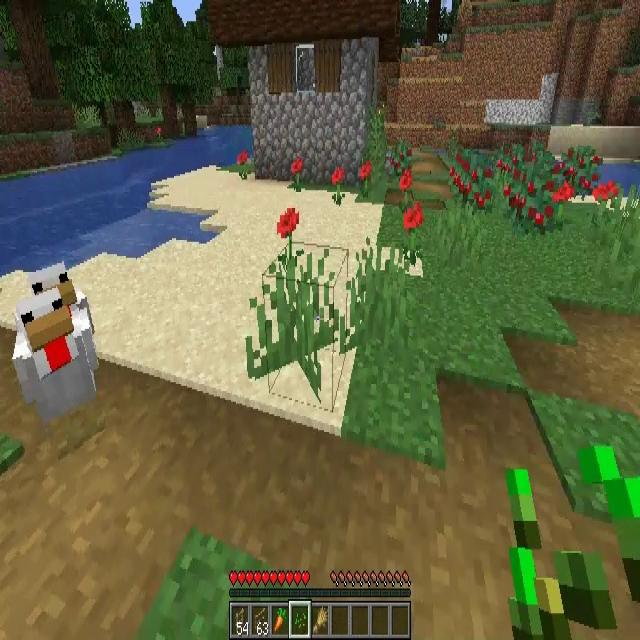duck: (18, 299, 96, 413), (32, 265, 94, 331)
flower: (277, 201, 304, 268), (401, 207, 422, 268), (593, 182, 620, 222), (330, 164, 346, 206), (554, 183, 573, 218), (399, 172, 416, 209), (358, 160, 371, 197), (290, 160, 302, 192), (238, 151, 251, 180)
